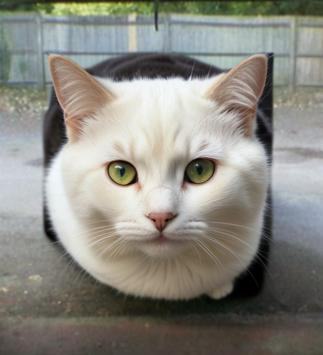cat: (42, 52, 273, 301)
